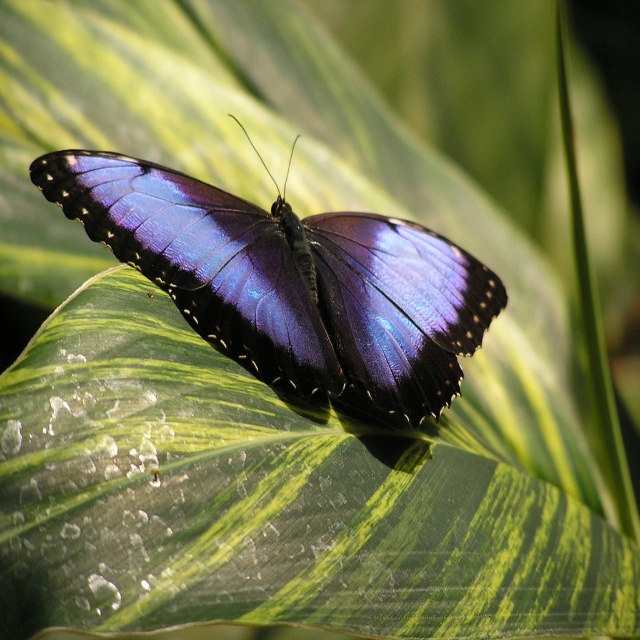Butterfly: (44, 106, 489, 454)
